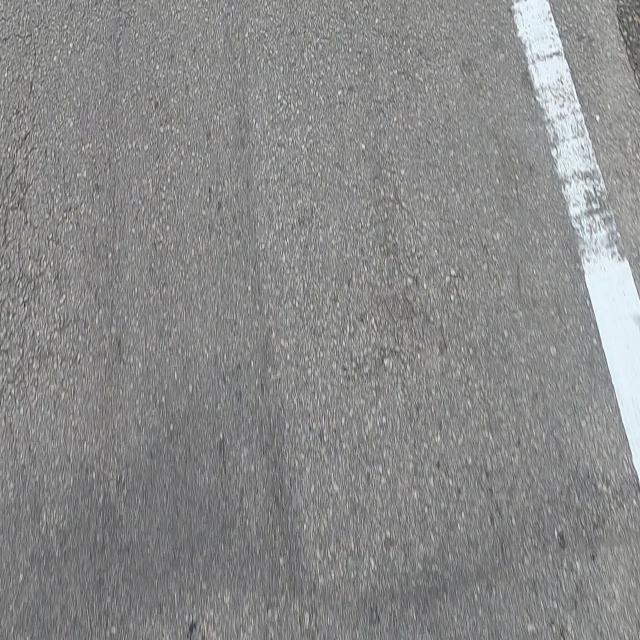Retak-Buaya: (0, 134, 66, 406)
